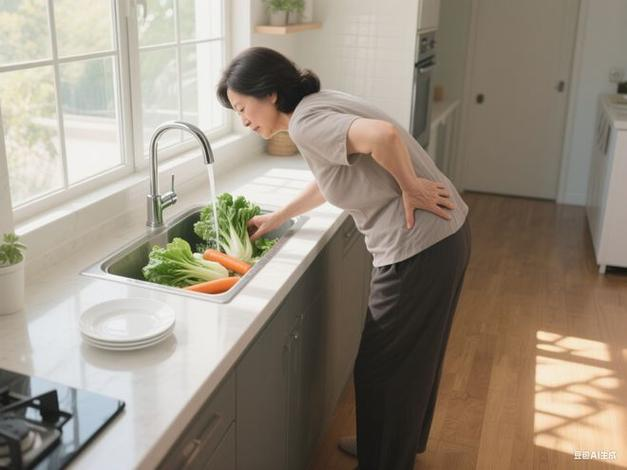bending: (206, 31, 468, 461)
